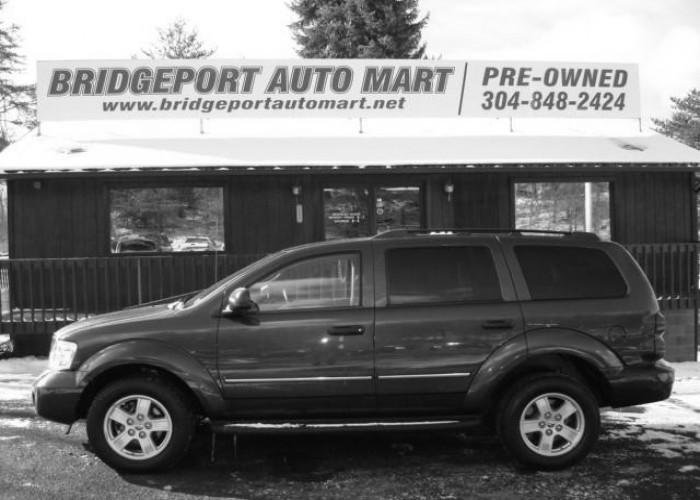car: (32, 229, 676, 472)
